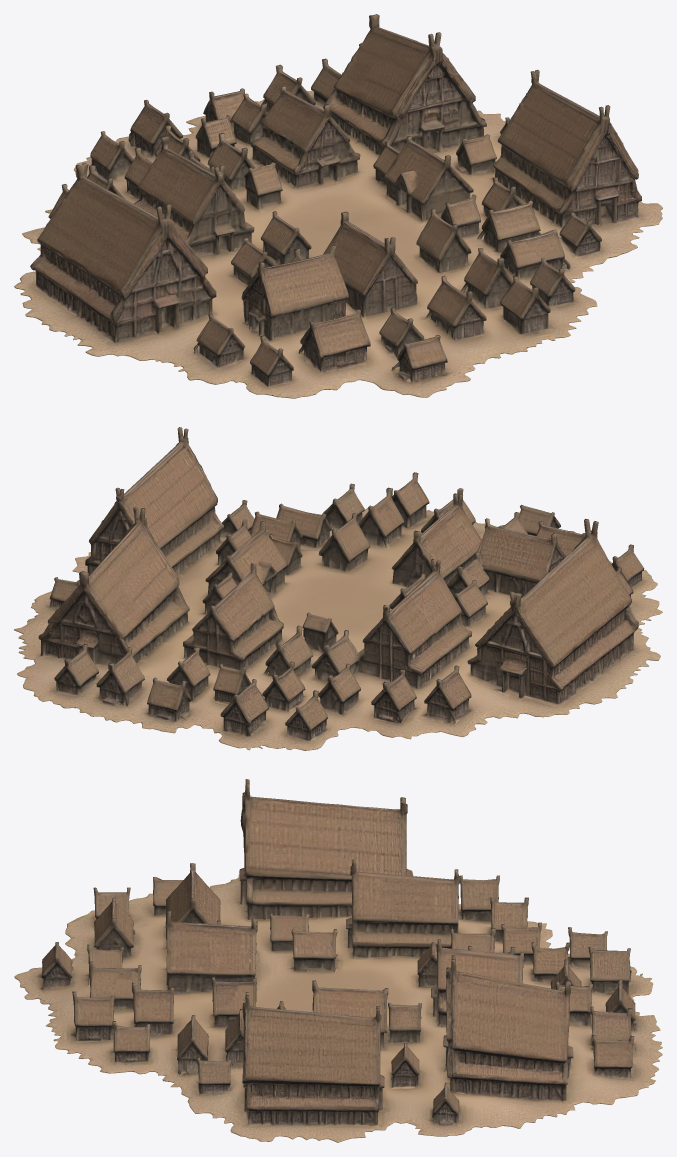
File: Ancient City (Western).fbx
3 renders of one model, top to bottom at view 1: azimuth 30°, elevation 25°; view 2: azimuth 150°, elevation 25°; view 3: azimuth 270°, elevation 25°, orthographic. The views are drawn at different scales.
Visible parts, largest first — view 1: tripo_node_ce021dc8; view 2: tripo_node_ce021dc8; view 3: tripo_node_ce021dc8.
Boxes of the visible parts, x1,y1,x2,y2 form: tripo_node_ce021dc8: (14,14,662,398); tripo_node_ce021dc8: (14,427,662,750); tripo_node_ce021dc8: (14,779,662,1142).
Bounding box in the file's own units: 1 × 0.2214 × 0.9976.
